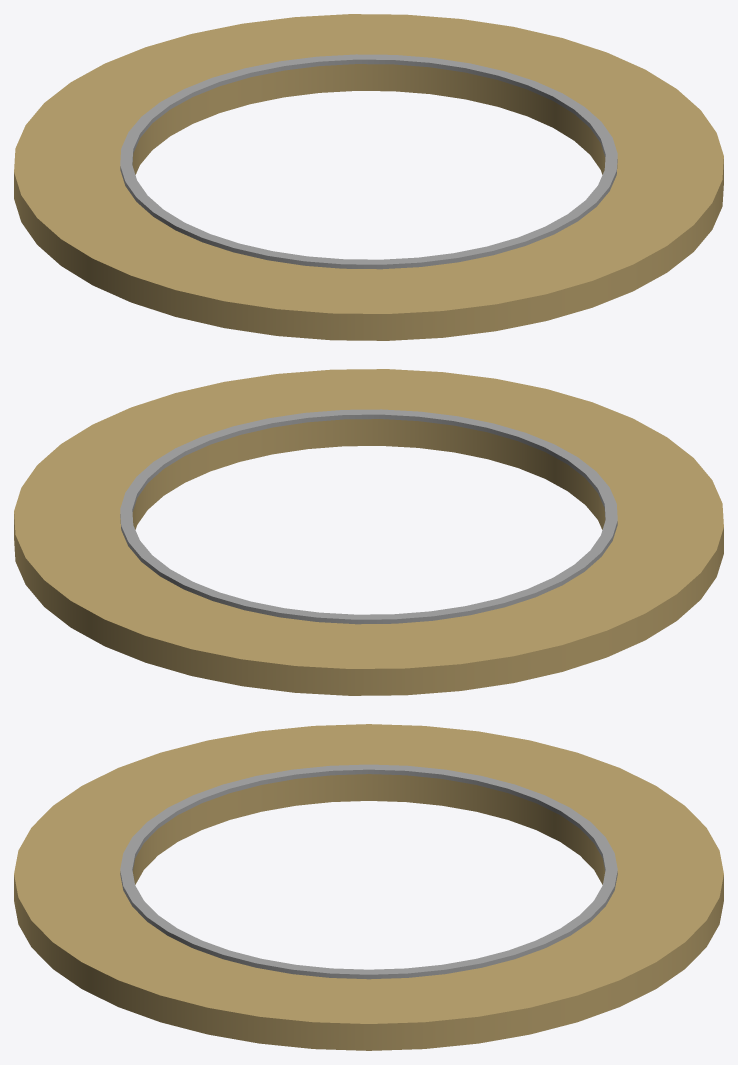
Rendered from Ring3.fbx.
3 views of the same model, one above another, from view 1: azimuth 30°, elevation 25°; view 2: azimuth 150°, elevation 25°; view 3: azimuth 270°, elevation 25° (orthographic).
Parts seen in each view (by area): view 1: Ring3; view 2: Ring3; view 3: Ring3.
Part boxes in pixels (x1,y1,x2,y2): Ring3: [14, 14, 723, 340]; Ring3: [14, 369, 723, 695]; Ring3: [14, 724, 723, 1050].
Size of the model in its own units: 60 by 2.91 by 60.
